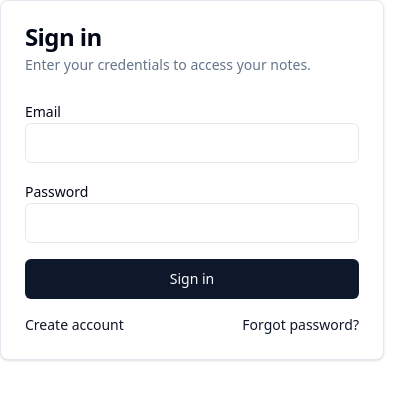
Test: auth-ui › Login screen › shows a single generic message on 401 without a field hint
The width and height of the screenshot is (401, 414).
Type "a@b.com" into the field labelled "Email". click: (192, 143)
box: [25,123,359,163]
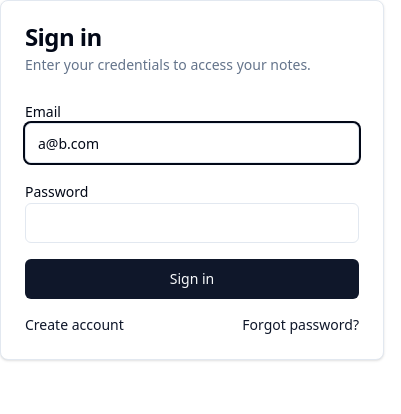
Type "wrongpass" into the password field labelled "Password". click: (192, 223)
box: [25,203,359,243]
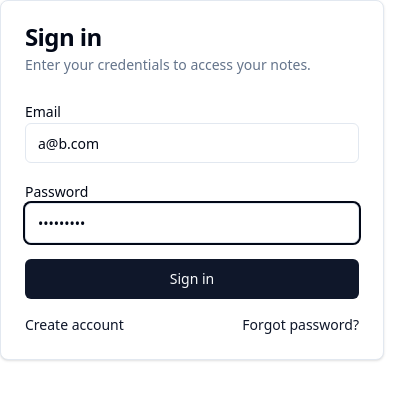
Click the button "Sign in". click: (192, 279)
box: [25,259,359,299]
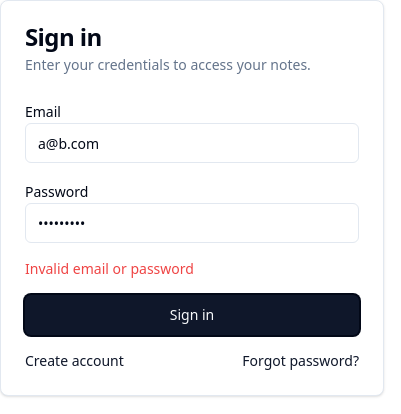
Expected: the heading "Sign in" is shown, [25,20,102,53]
Result: the text "Invalid email or password" is shown at [25,259,194,278]
